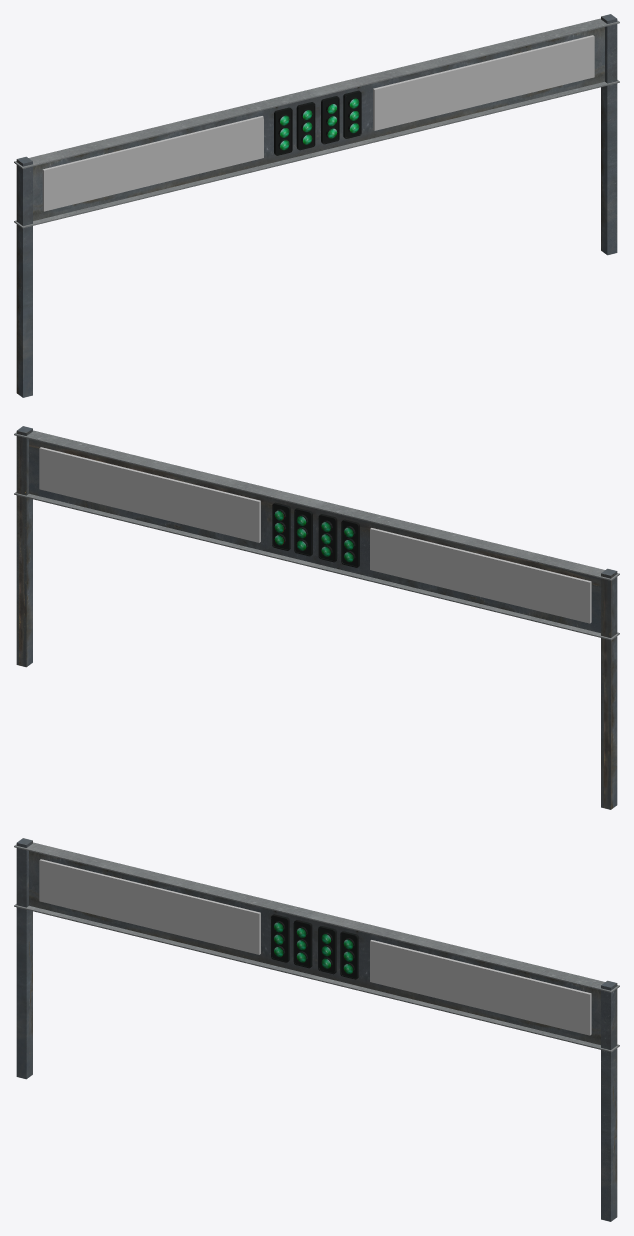
Rendered from Post-Start-02.fbx.
The picture shows the model from 3 angles, top to bottom: view 1: azimuth 30°, elevation 25°; view 2: azimuth 150°, elevation 25°; view 3: azimuth 330°, elevation 25°; orthographic projection.
Parts seen in each view (by area): view 1: Post, Green-ON; view 2: Post, Green-ON; view 3: Post, Green-ON.
Boxes of the visible parts, x1,y1,x2,y2 form: Post: (14, 14, 619, 397); Green-ON: (280, 98, 359, 150); Post: (14, 426, 619, 809); Green-ON: (274, 510, 353, 562); Post: (14, 838, 619, 1221); Green-ON: (274, 922, 353, 974).
Size of the model in its own units: 2526 by 946 by 62.58.
